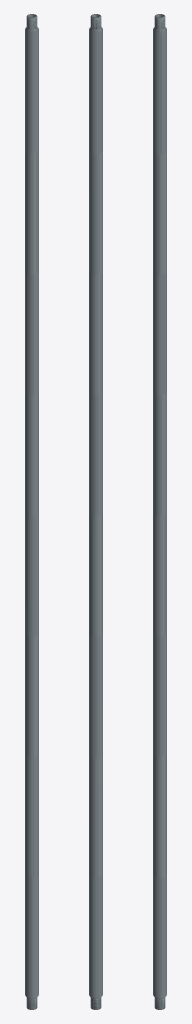
Rendered from collar.glb.
3 renders of one model, left to right at view 1: azimuth 90°, elevation 25°; view 2: azimuth 150°, elevation 25°; view 3: azimuth 270°, elevation 25°, orthographic.
Visible parts, largest first — view 1: tool-housing (×2); view 2: tool-housing (×2); view 3: tool-housing (×2).
Boxes of the visible parts, bbox=[...] form: tool-housing (×2): bbox=[25, 14, 38, 1009]; tool-housing (×2): bbox=[89, 14, 102, 1009]; tool-housing (×2): bbox=[153, 14, 166, 1009].
Bounding box in the file's own units: 0.1166 × 9.1 × 0.1166.
2 materials, 2 textured.
